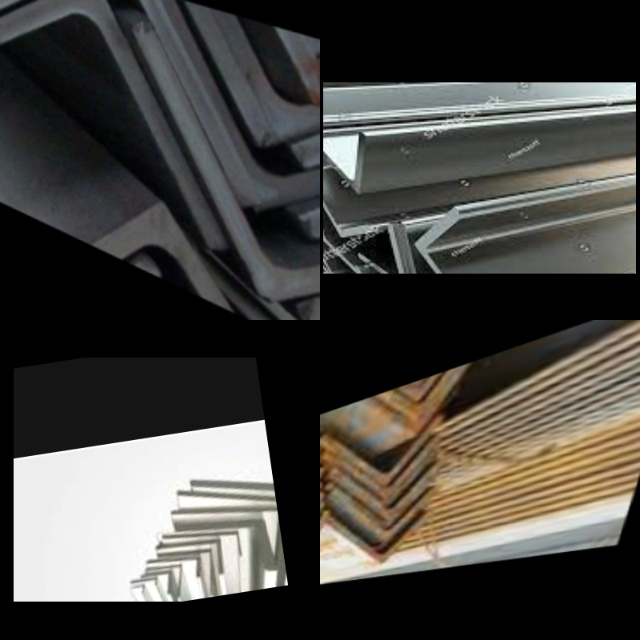Angle: (0, 0, 216, 240), (145, 35, 320, 320), (0, 0, 244, 185), (145, 0, 320, 225), (0, 0, 265, 124), (0, 0, 320, 93), (167, 0, 320, 144), (93, 196, 224, 308), (320, 402, 437, 492), (346, 363, 470, 447), (329, 443, 437, 528), (193, 470, 284, 569), (351, 360, 478, 430), (324, 425, 434, 504), (332, 468, 437, 548), (327, 436, 430, 513), (180, 477, 280, 546), (173, 498, 282, 559), (329, 500, 425, 567), (177, 515, 271, 582), (323, 200, 440, 233), (304, 88, 320, 308), (405, 227, 474, 274), (421, 216, 475, 274), (164, 526, 241, 566), (305, 36, 320, 233), (161, 548, 216, 598), (158, 538, 221, 580), (323, 139, 362, 186), (391, 227, 429, 274), (149, 554, 200, 582), (148, 563, 185, 600), (320, 515, 334, 567), (315, 188, 320, 320)
